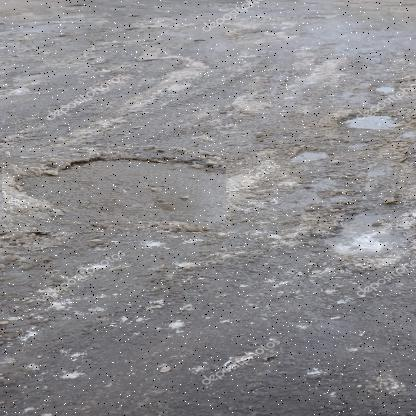pothole_water: (2, 147, 227, 233), (333, 107, 412, 138)
